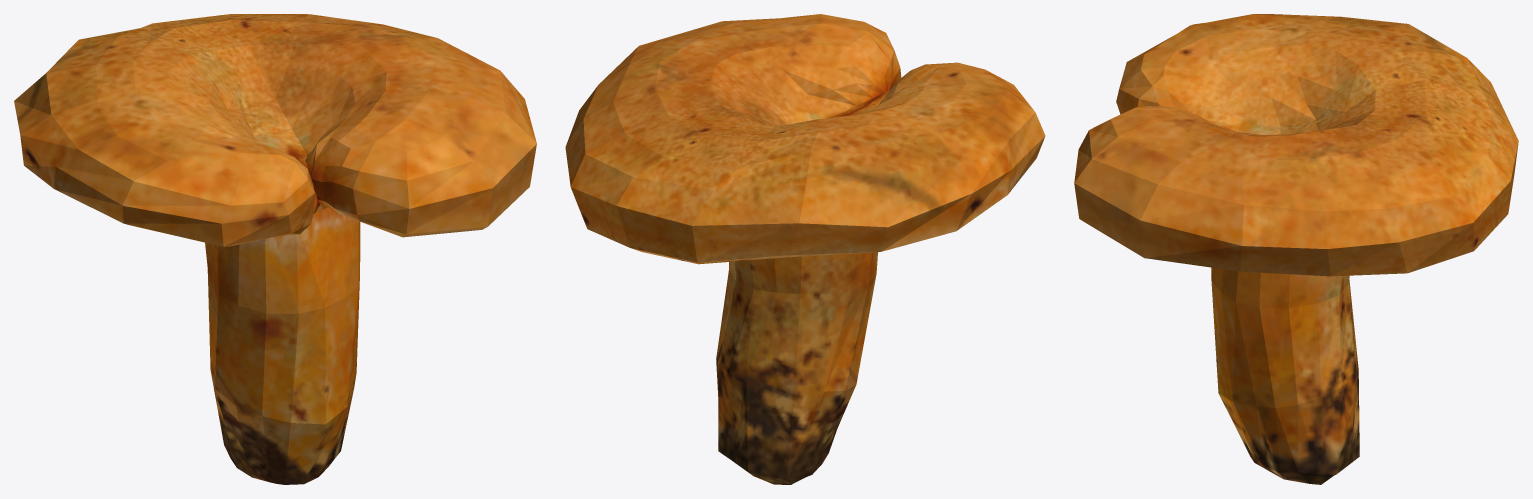
The model's file is P_Lingzhi_01.obj.
3 renders of one model, left to right at view 1: azimuth 30°, elevation 25°; view 2: azimuth 150°, elevation 25°; view 3: azimuth 270°, elevation 25°, orthographic. The views are drawn at different scales.
Bounding box in the file's own units: 0.3328 × 0.3025 × 0.3163.
Materials: 1 (1 with a texture image).
